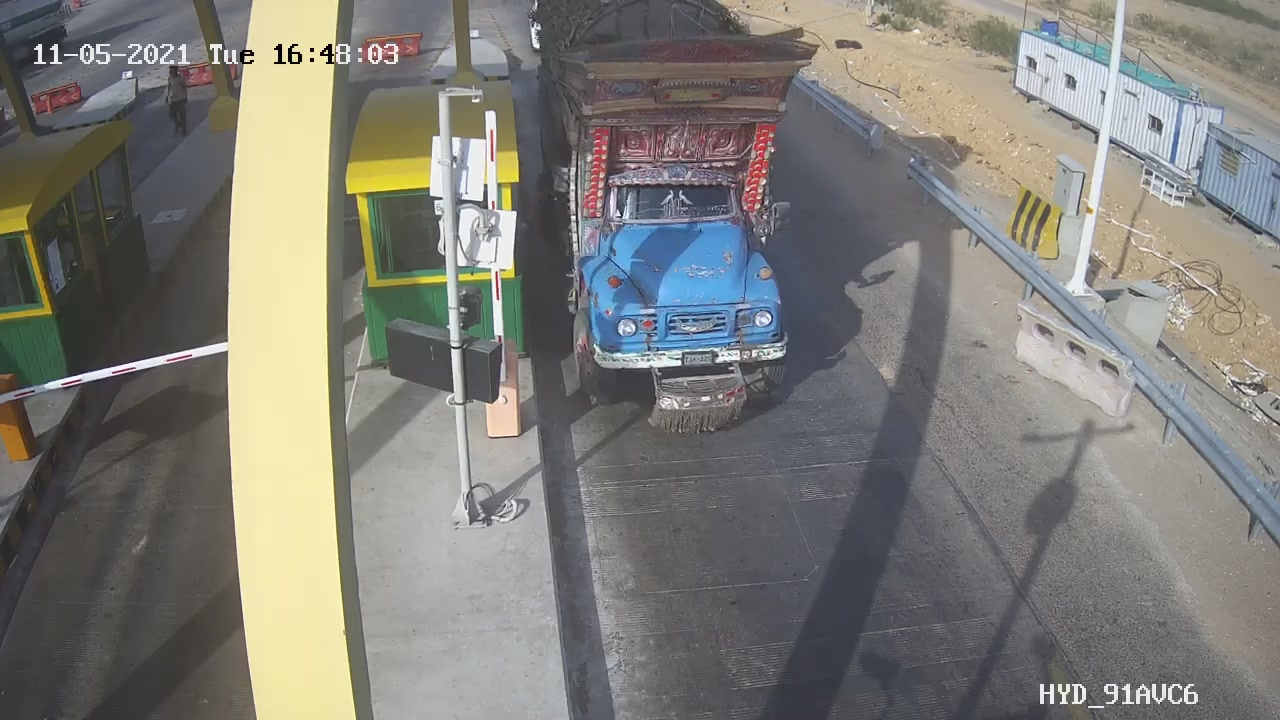F5: (512, 1, 839, 455)
